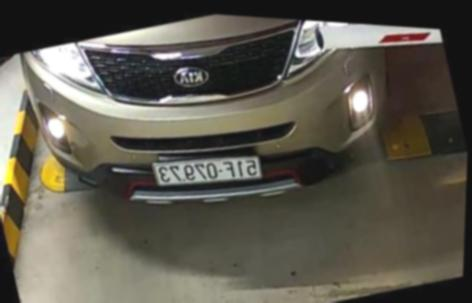License_Plate: (144, 143, 269, 198)
